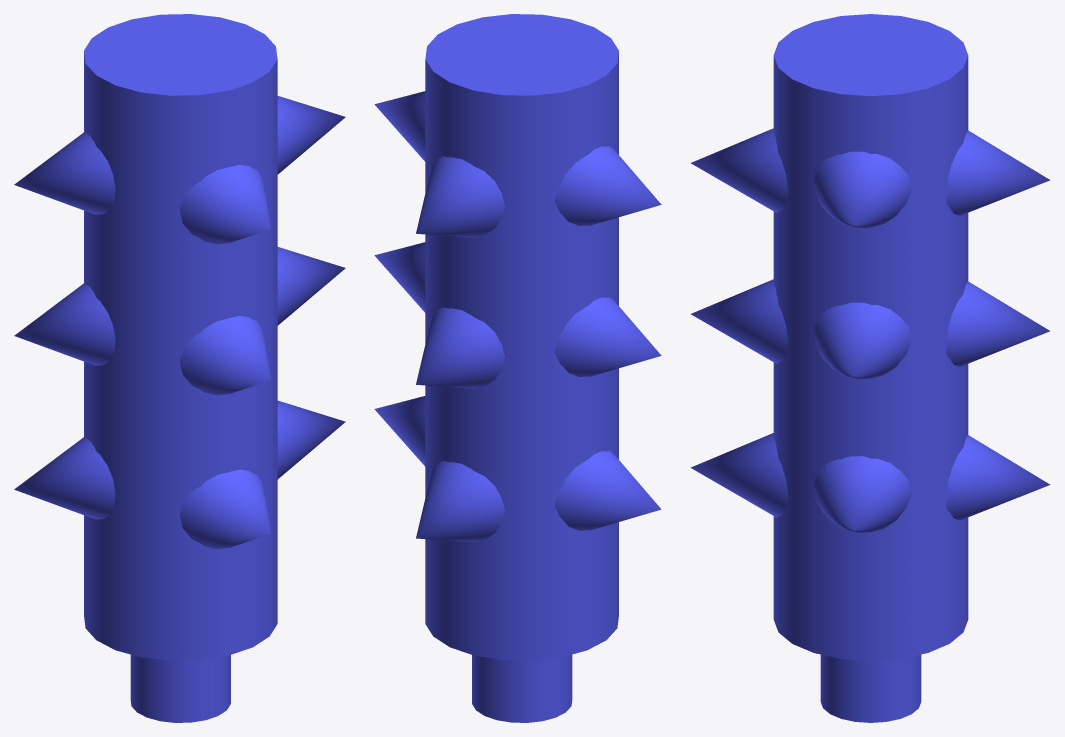
Rendered from dikenl.obj.
3 views of the same model, side by side, from view 1: azimuth 30°, elevation 25°; view 2: azimuth 150°, elevation 25°; view 3: azimuth 270°, elevation 25° (orthographic).
Visible parts, largest first — view 1: dikenli_engel pCylinder1, pCylinder2 dikenli_engel, dikenli_engel pCone12, dikenli_engel pCone8, dikenli_engel pCone1, dikenli_engel pCone4, dikenli_engel pCone5, dikenli_engel pCone9, dikenli_engel pCone7, dikenli_engel pCone11, dikenli_engel pCone2; view 2: dikenli_engel pCylinder1, pCylinder2 dikenli_engel, dikenli_engel pCone10, dikenli_engel pCone3, dikenli_engel pCone6, dikenli_engel pCone9, dikenli_engel pCone4, dikenli_engel pCone5, dikenli_engel pCone2, dikenli_engel pCone11, dikenli_engel pCone7; view 3: dikenli_engel pCylinder1, pCylinder2 dikenli_engel, dikenli_engel pCone11, dikenli_engel pCone2, dikenli_engel pCone7, dikenli_engel pCone10, dikenli_engel pCone6, dikenli_engel pCone3, dikenli_engel pCone8, dikenli_engel pCone1, dikenli_engel pCone12.
Part boxes in pixels (box(x1,y1,x2,y2)): dikenli_engel pCylinder1: box(84, 14, 277, 660); pCylinder2 dikenli_engel: box(130, 654, 230, 722); dikenli_engel pCone12: box(180, 469, 270, 548); dikenli_engel pCone8: box(180, 164, 270, 244); dikenli_engel pCone1: box(180, 316, 270, 395); dikenli_engel pCone4: box(14, 283, 115, 365); dikenli_engel pCone5: box(14, 132, 115, 214); dikenli_engel pCone9: box(14, 436, 115, 519); dikenli_engel pCone7: box(277, 96, 345, 174); dikenli_engel pCone11: box(277, 400, 345, 479); dikenli_engel pCone2: box(277, 247, 345, 325); dikenli_engel pCylinder1: box(425, 14, 618, 660); pCylinder2 dikenli_engel: box(472, 654, 572, 722); dikenli_engel pCone10: box(416, 461, 505, 542); dikenli_engel pCone3: box(416, 307, 505, 388); dikenli_engel pCone6: box(416, 156, 505, 237); dikenli_engel pCone9: box(554, 450, 661, 530); dikenli_engel pCone4: box(554, 297, 661, 376); dikenli_engel pCone5: box(554, 146, 661, 225); dikenli_engel pCone2: box(374, 242, 425, 312); dikenli_engel pCone11: box(374, 396, 425, 466); dikenli_engel pCone7: box(374, 91, 425, 161); dikenli_engel pCylinder1: box(773, 14, 968, 660); pCylinder2 dikenli_engel: box(820, 654, 921, 722); dikenli_engel pCone11: box(814, 456, 911, 533); dikenli_engel pCone2: box(814, 302, 911, 379); dikenli_engel pCone7: box(814, 151, 911, 228); dikenli_engel pCone10: box(946, 435, 1050, 520); dikenli_engel pCone6: box(946, 130, 1050, 215); dikenli_engel pCone3: box(946, 281, 1050, 366); dikenli_engel pCone8: box(691, 128, 787, 212); dikenli_engel pCone1: box(691, 279, 787, 363); dikenli_engel pCone12: box(691, 433, 787, 517).
Bounding box in the file's own units: 2.34 × 4.68 × 2.36.
